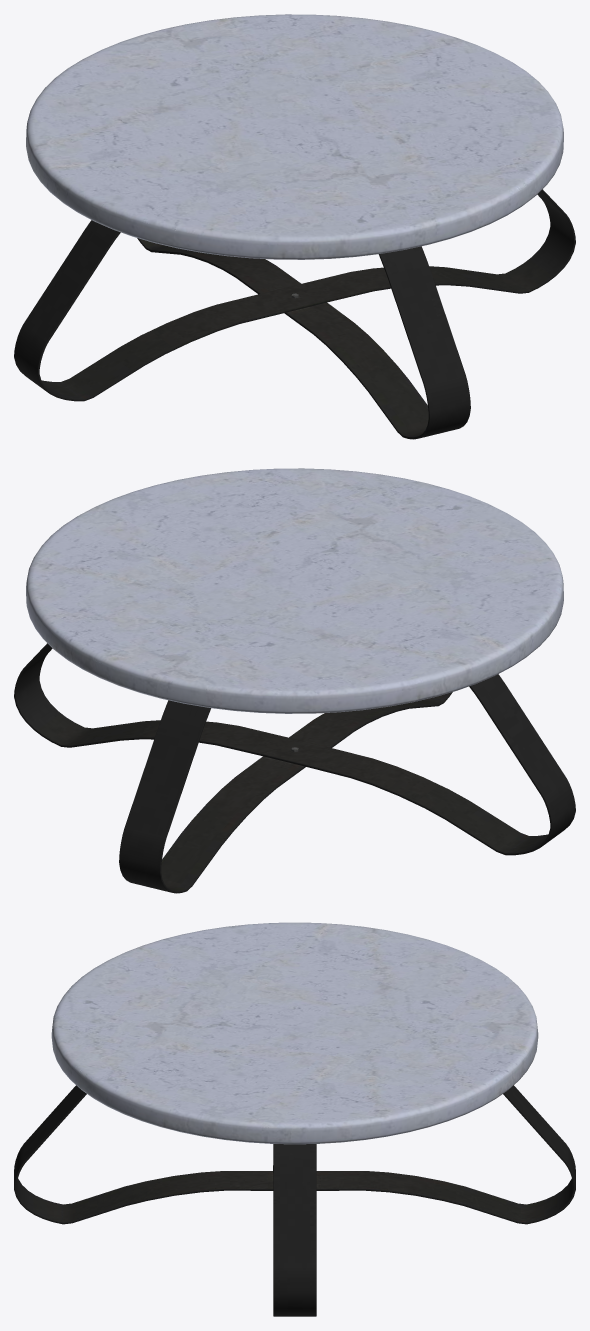
Rendered from coffee_table_round_01.glb.
3 renders of one model, top to bottom at view 1: azimuth 30°, elevation 25°; view 2: azimuth 150°, elevation 25°; view 3: azimuth 270°, elevation 25°, orthographic. The views are drawn at different scales.
Parts seen in each view (by area): view 1: coffee_table_round_01; view 2: coffee_table_round_01; view 3: coffee_table_round_01.
Part boxes in pixels (x1=…): coffee_table_round_01: x1=14, y1=14, x2=575, y2=439; coffee_table_round_01: x1=14, y1=468, x2=575, y2=893; coffee_table_round_01: x1=14, y1=922, x2=575, y2=1316.
Size of the model in its own units: 1.3 by 0.4911 by 1.3.
1 material, 1 textured.
